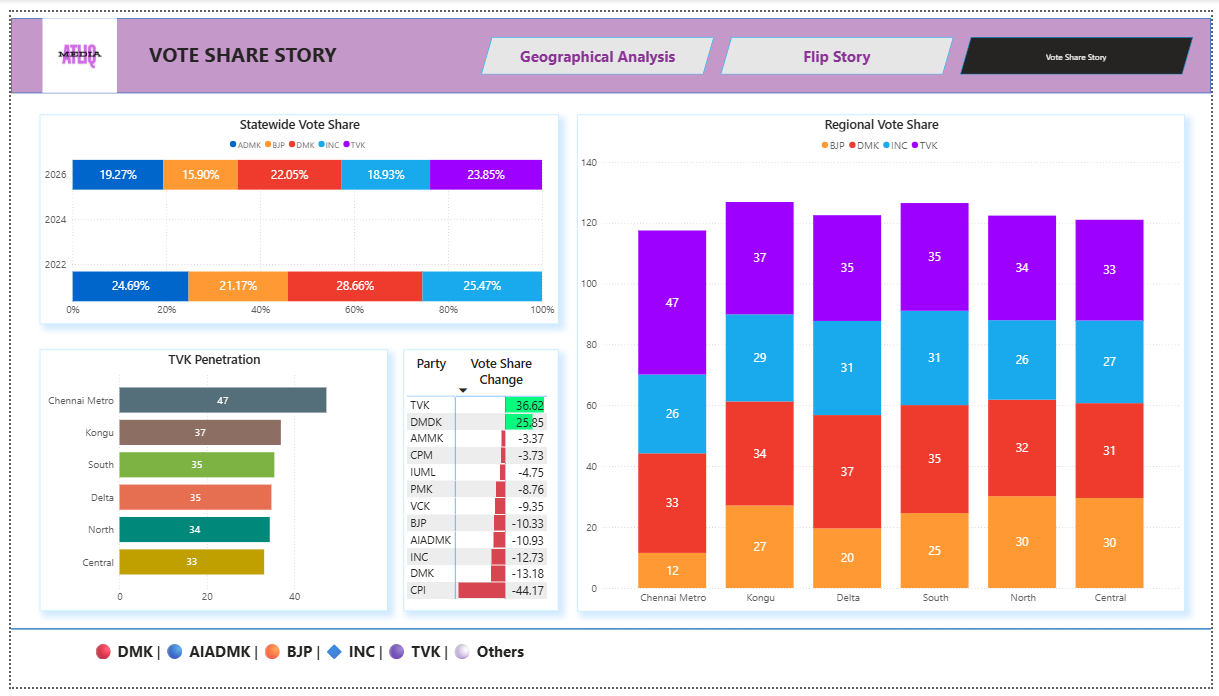

This screenshot's page, from the dashboard's own definition file:
{"tool":"powerbi","page":{"name":"Vote Share Story","canvas":[1920,1080],"ordinal":3},"visuals":[{"type":"hundredPercentStackedBarChart","title":"Statewide Vote Share","fields":{"Category":["fact_election_result.election_year"],"Series":["fact_election_result.party"],"Y":["Measures (2).Vote Share %"]},"box":[46.7,163.3,830,335],"z":0},{"type":"shape","box":[0,10,1920,120],"z":1000},{"type":"textbox","box":[198,40,346,100],"z":2000},{"type":"textbox","box":[126,1002,1732,60],"z":3000},{"type":"shape","box":[0,972,1920,30],"z":4000},{"type":"columnChart","title":"Regional Vote Share","fields":{"Series":["dim_party_master.standardized_party_code"],"Y":["Avg(fact_election_result_enriched.vote_share)"],"Category":["dim_constituency.region"]},"box":[905,163.3,971.7,795],"z":5000},{"type":"barChart","title":"TVK Penetration","fields":{"Y":["Measures (2).Vote Share %"],"Category":["dim_constituency.region"]},"box":[46.7,540,556.7,418.3],"z":6000},{"type":"pivotTable","fields":{"Rows":["dim_party_master.standardized_party_code"],"Values":["Measures (2).Vote Share Change"]},"box":[628.3,540,248.3,418.3],"z":7000},{"type":"pageNavigator","box":[752,40,1140,60],"z":8000},{"type":"image","box":[43.4,10.9,132.1,119.4],"z":8001}]}

Visuals, with their boxes in screenshot pixels (x1, y1, x2, y2), scaled from the page's 1920x1080 canvas onto the 1219x696 screenshot:
"Statewide Vote Share" hundredPercentStackedBarChart: BBox(30, 105, 557, 321)
shape: BBox(0, 6, 1218, 84)
textbox: BBox(126, 26, 345, 90)
textbox: BBox(80, 646, 1180, 684)
shape: BBox(0, 626, 1218, 646)
"Regional Vote Share" columnChart: BBox(575, 105, 1192, 618)
"TVK Penetration" barChart: BBox(30, 348, 383, 618)
pivotTable - dim_party_master.standardized_party_code x Measures (2).Vote Share Change: BBox(399, 348, 557, 618)
pageNavigator: BBox(477, 26, 1201, 64)
image: BBox(28, 7, 111, 84)
